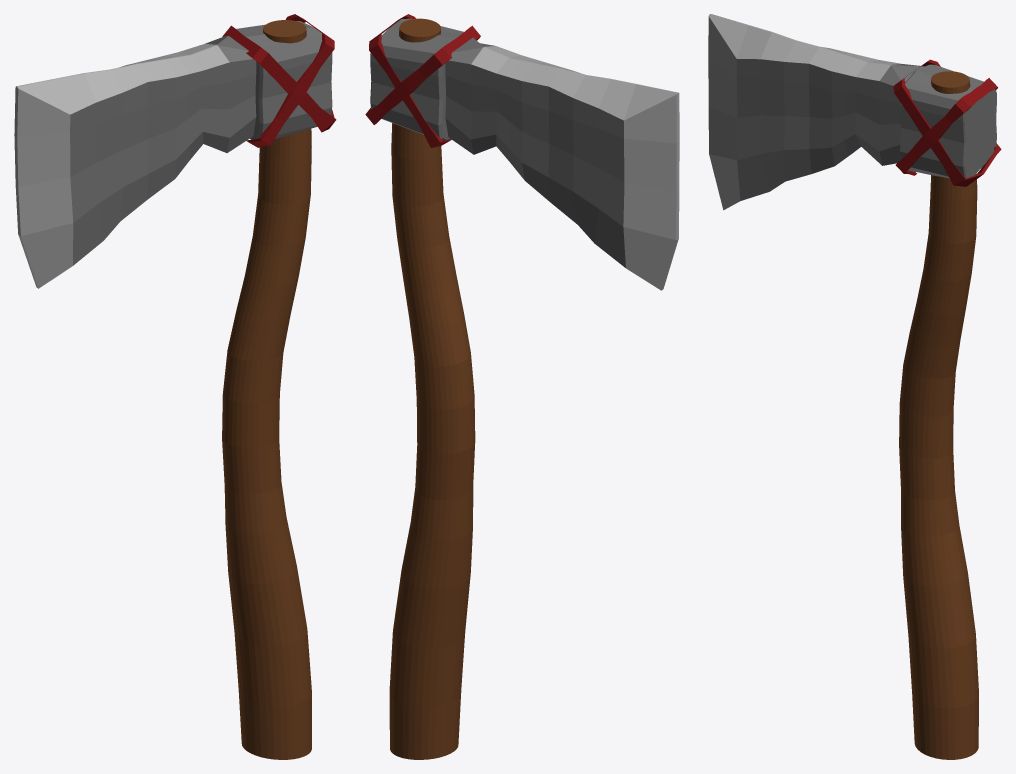
File: axe.fbx
The picture shows the model from 3 angles, left to right: view 1: azimuth 30°, elevation 25°; view 2: azimuth 150°, elevation 25°; view 3: azimuth 330°, elevation 25°; orthographic projection. The views are drawn at different scales.
Visible parts, largest first — view 1: Topor; view 2: Topor; view 3: Topor.
Part boxes in pixels (<box>): Topor: <box>14,14,336,759</box>; Topor: <box>365,14,679,759</box>; Topor: <box>708,14,1001,759</box>.
Bounding box in the file's own units: 200 × 452 × 44.08.
